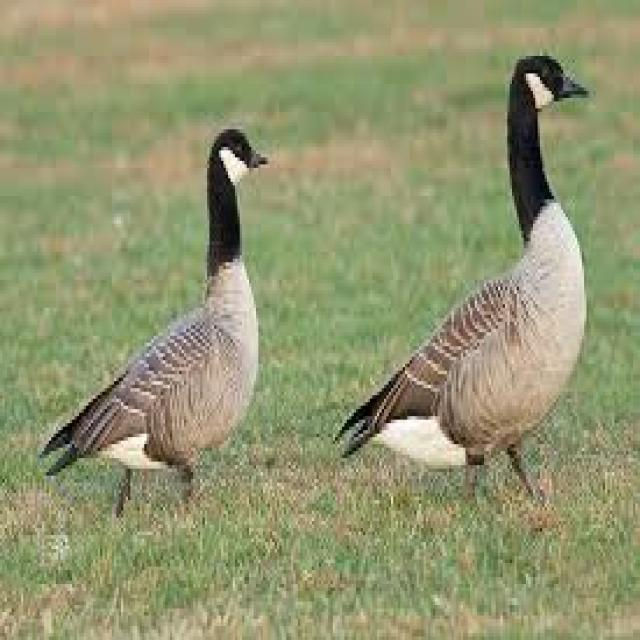Goose: (358, 48, 588, 504), (35, 121, 269, 511)
